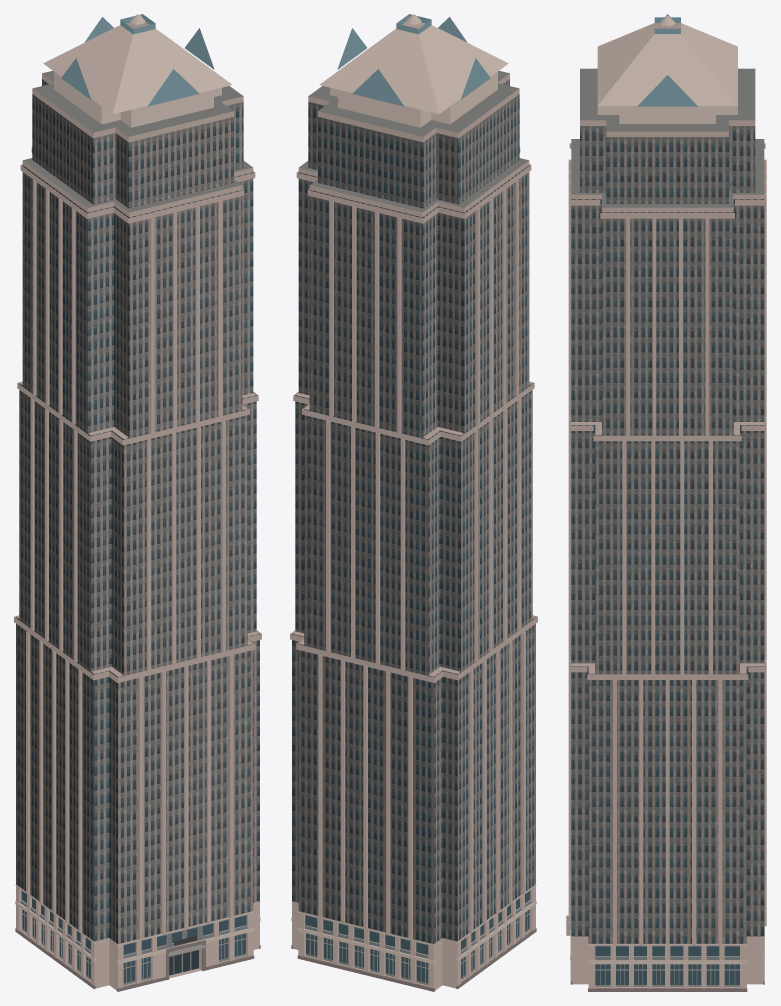
File: third_1201.glb
3 views of the same model, side by side, from view 1: azimuth 30°, elevation 25°; view 2: azimuth 150°, elevation 25°; view 3: azimuth 270°, elevation 25° (orthographic).
Parts seen in each view (by area): view 1: third_1201; view 2: third_1201; view 3: third_1201.
Boxes of the visible parts, x1,y1,x2,y2 form: third_1201: [14, 14, 261, 991]; third_1201: [290, 14, 537, 991]; third_1201: [566, 14, 766, 991].
Bounding box in the file's own units: 45.1 × 235 × 45.64.
Materials: 2 (2 with a texture image).
